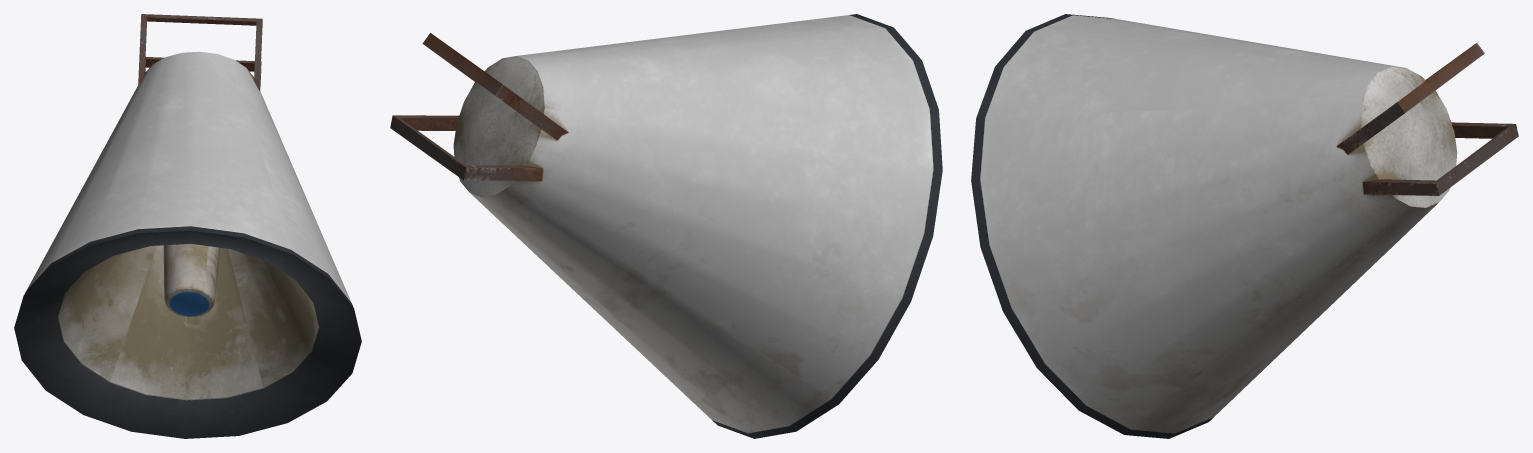
Rendered from SpeakerTexture.gltf.
The picture shows the model from 3 angles, left to right: view 1: azimuth 30°, elevation 25°; view 2: azimuth 150°, elevation 25°; view 3: azimuth 270°, elevation 25°; orthographic projection. The views are drawn at different scales.
Parts seen in each view (by area): view 1: SM_Speaker1; view 2: SM_Speaker1; view 3: SM_Speaker1.
Boxes of the visible parts, <box> form: SM_Speaker1: <box>14,14,361,438</box>; SM_Speaker1: <box>390,14,942,438</box>; SM_Speaker1: <box>971,14,1518,438</box>.
Bounding box in the file's own units: 0.3596 × 0.3417 × 0.4057.
1 material, 1 textured.
